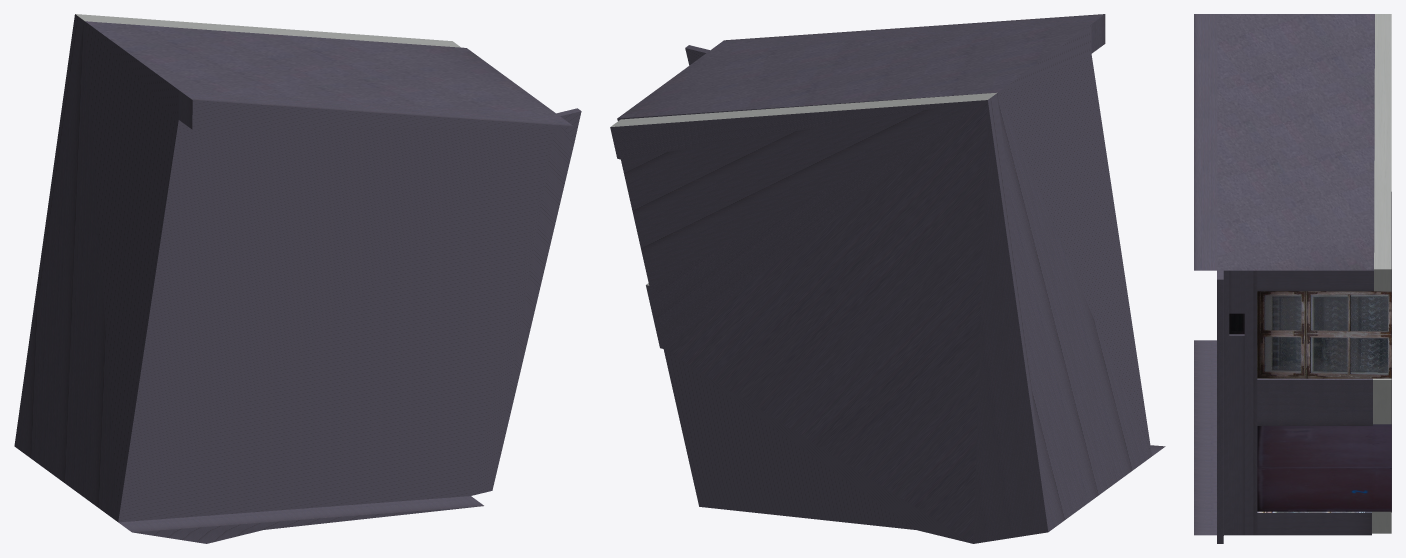
Rendered from Harju_11b-origo.obj.
The picture shows the model from 3 angles, left to right: view 1: azimuth 30°, elevation 25°; view 2: azimuth 150°, elevation 25°; view 3: azimuth 270°, elevation 25°; orthographic projection. The views are drawn at different scales.
Parts seen in each view (by area): view 1: Box01; view 2: Box01; view 3: Box01.
Part boxes in pixels (x1,y1,x2,y2): Box01: (14, 14, 581, 543); Box01: (610, 14, 1165, 543); Box01: (1194, 14, 1391, 543).
Bounding box in the file's own units: 8.12 × 8 × 3.58.
